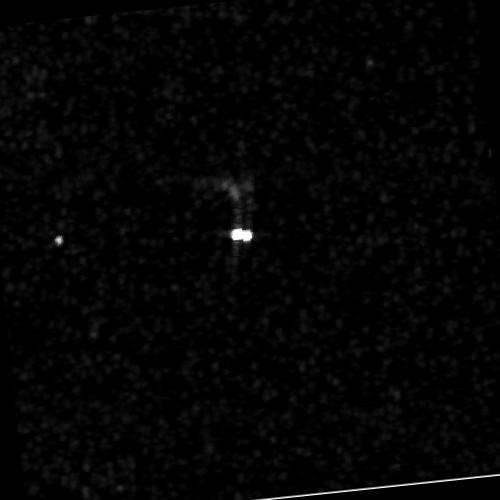ship: (228, 226, 254, 243)
